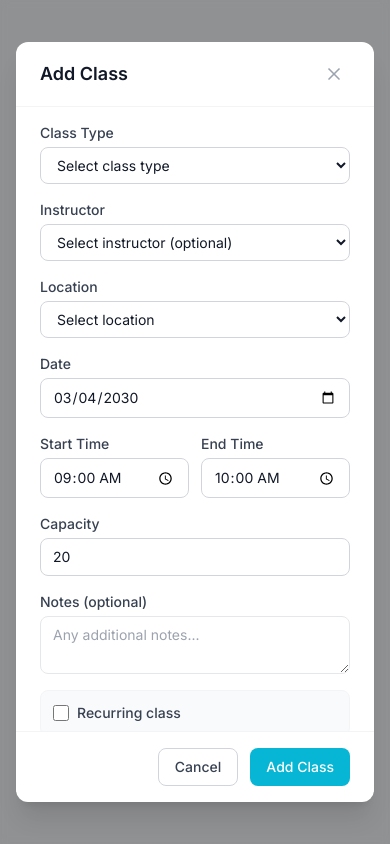
Test: AddClassModal › does not offer notes for a recurring class, where they would not be kept
Select "Spin" in the dropdown labelled "Class Type". click: (195,166)
box: [40,147,350,184]
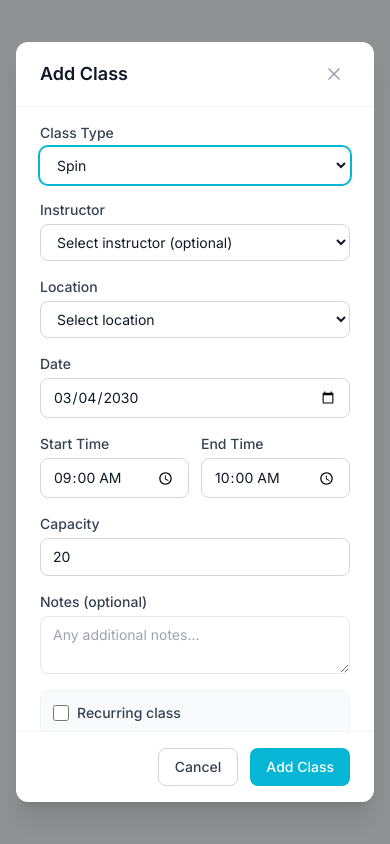
Select "Main Floor" in the dropdown labelled "Location". click: (195,320)
box: [40,301,350,338]
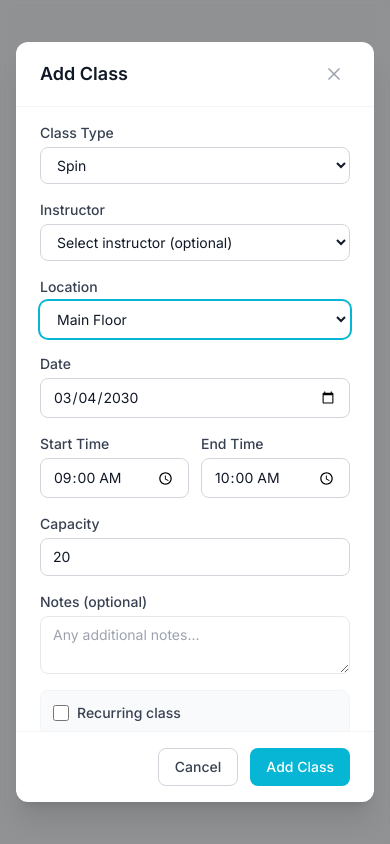
Replace the text in the number field labelled "Capacity" with "35". click: (195,557)
box: [40,538,350,576]
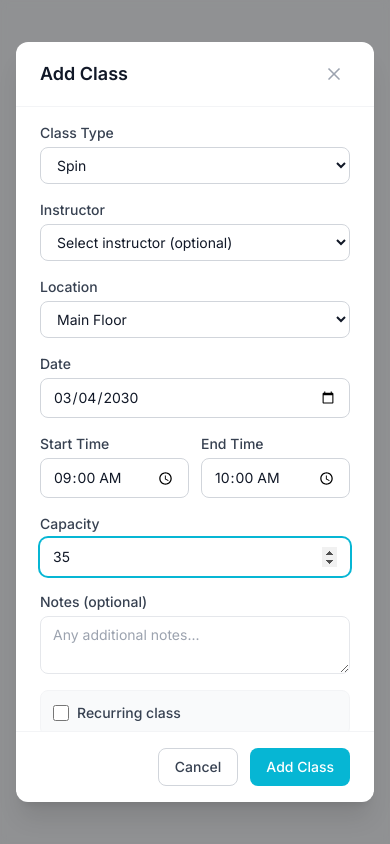
Expected: the text box labelled "Notes (optional)" is shown, [40,616,350,674]
Click the checkbox labelled "Recurring class". click: (61,713)
box: [53,705,69,721]
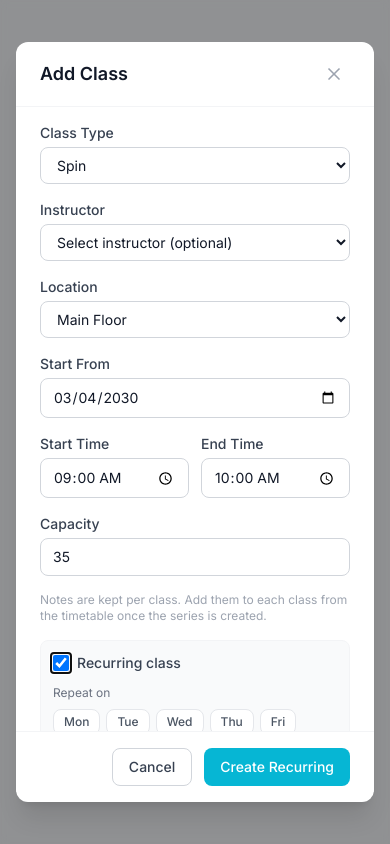
Expected: the text "Notes are kept per class" is shown, [40,592,347,623]
